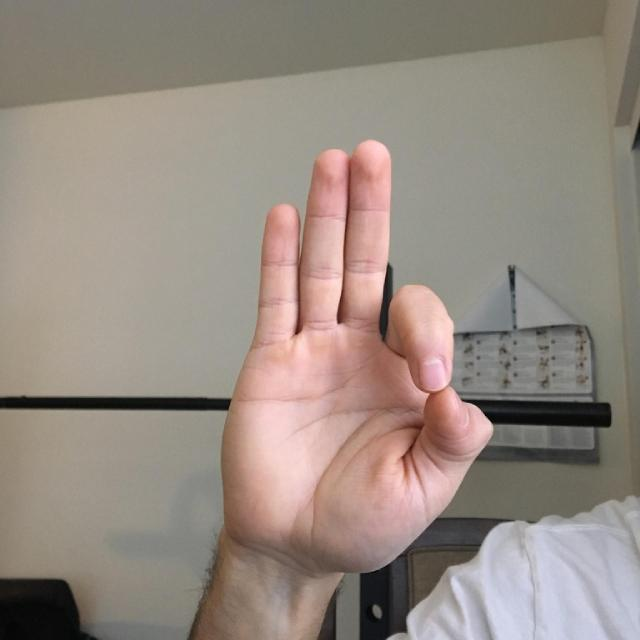F: (187, 79, 531, 600)
